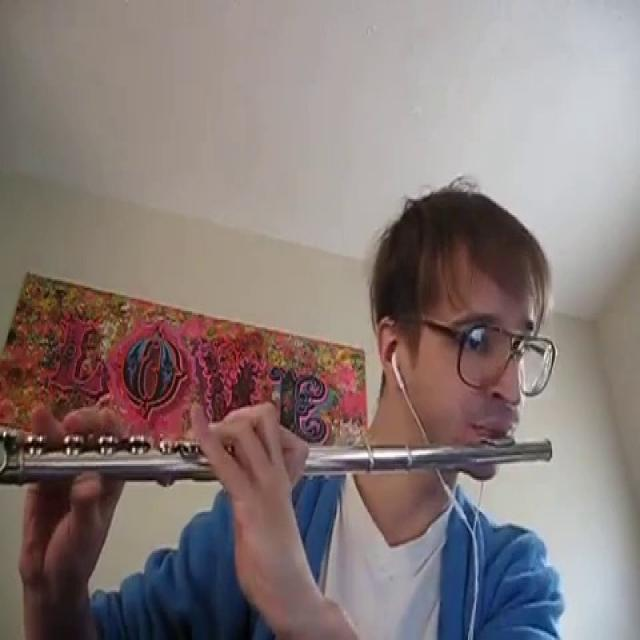Flute: (0, 425, 563, 499)
